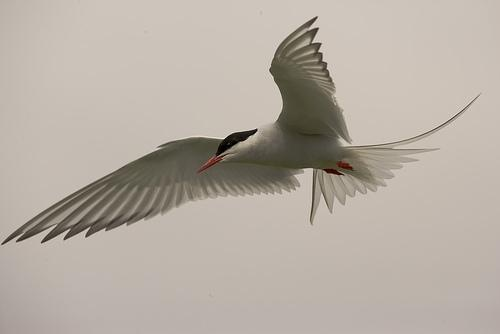bird: (4, 9, 484, 250)
